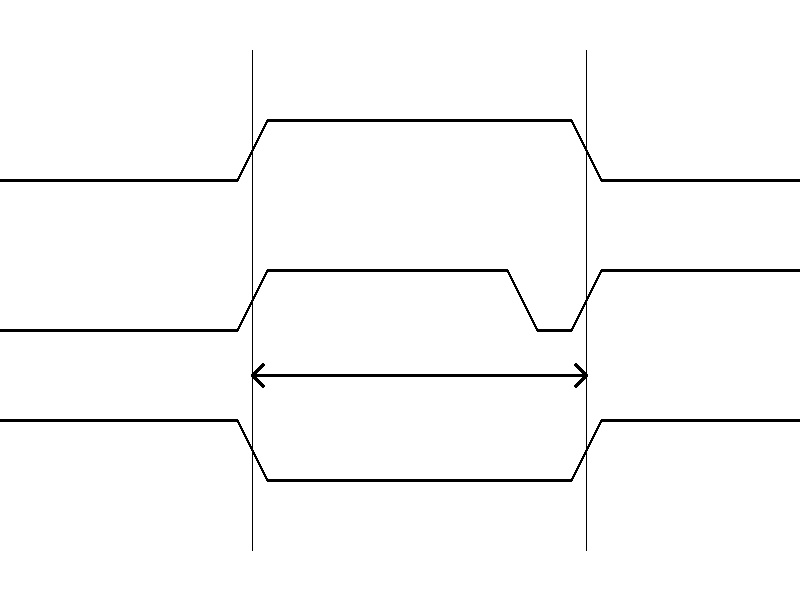double_arrow: (252, 360, 586, 390)
